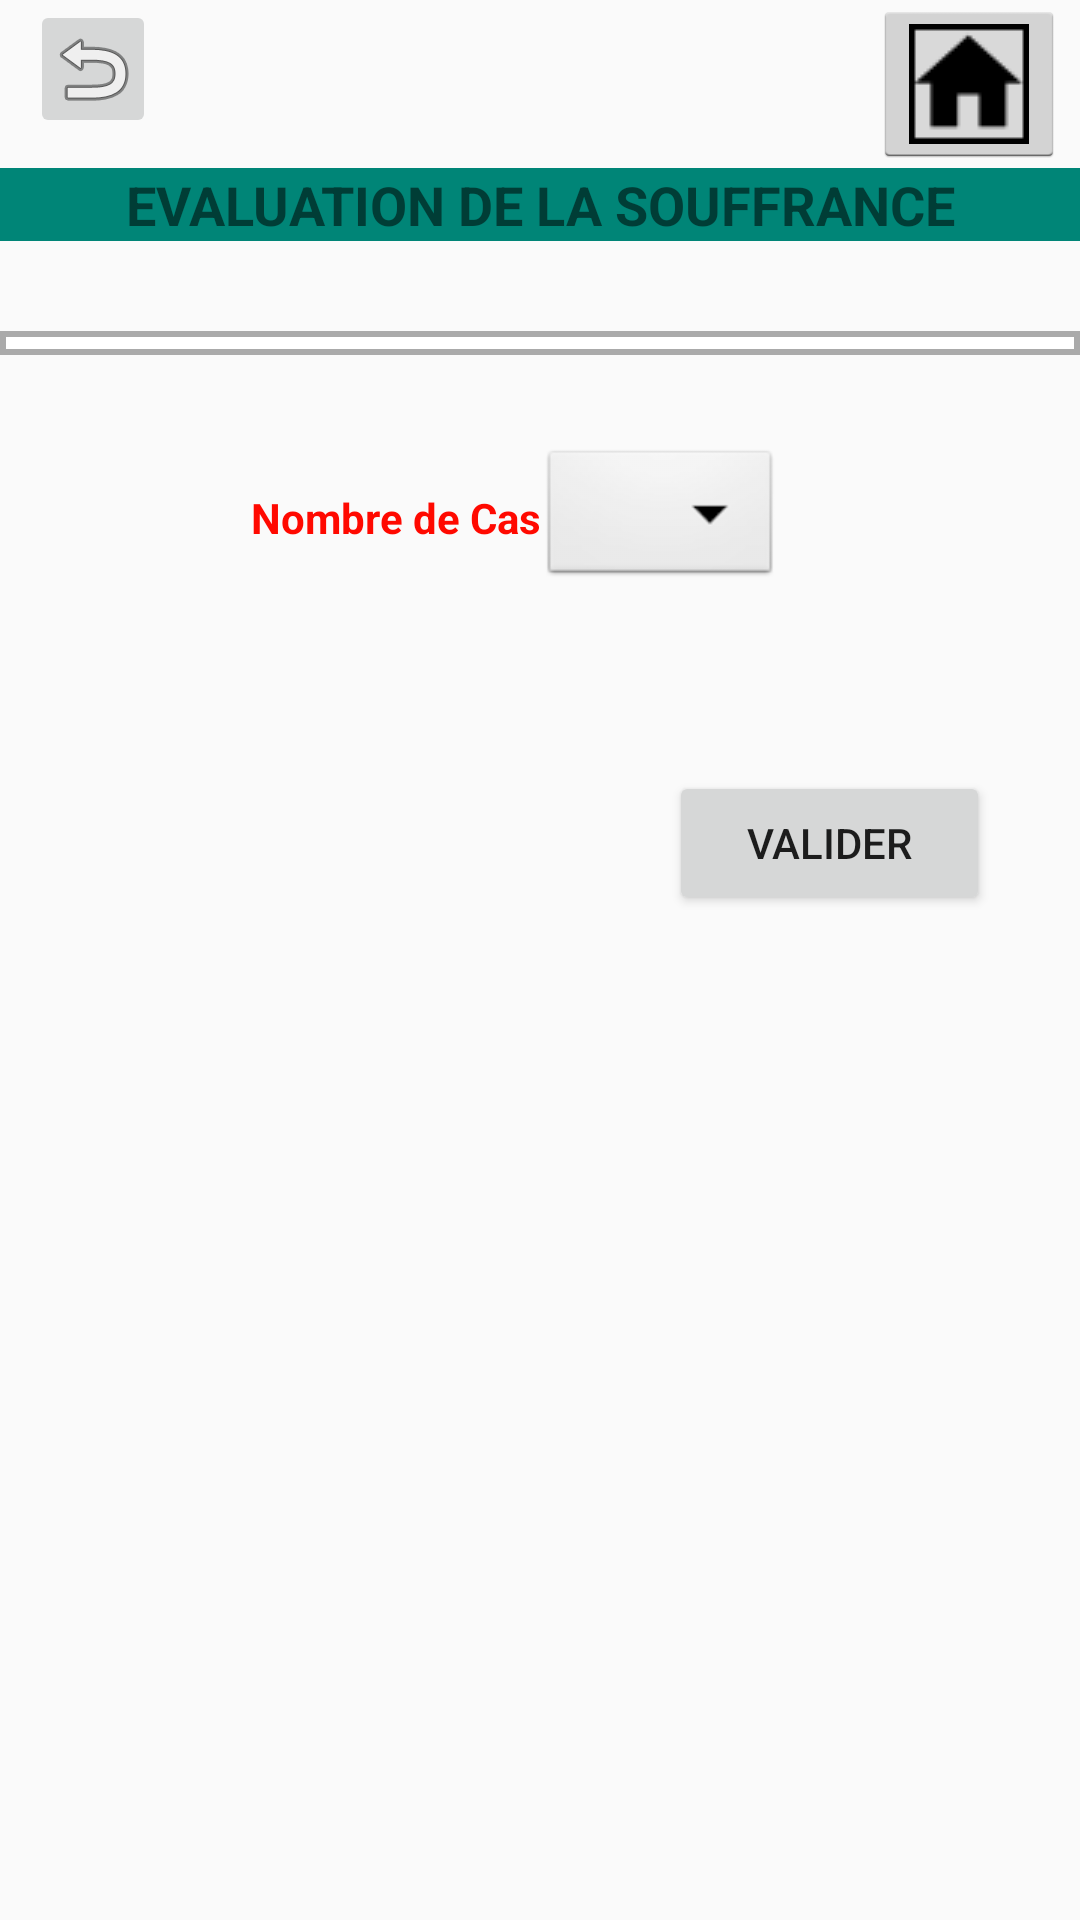

Locate icon controls on the screen. Image size 1080px x 1920px, boxes as detection(x1, y1, x2, y2).
home: detection(885, 13, 1053, 157)
revert: detection(42, 18, 144, 120)
